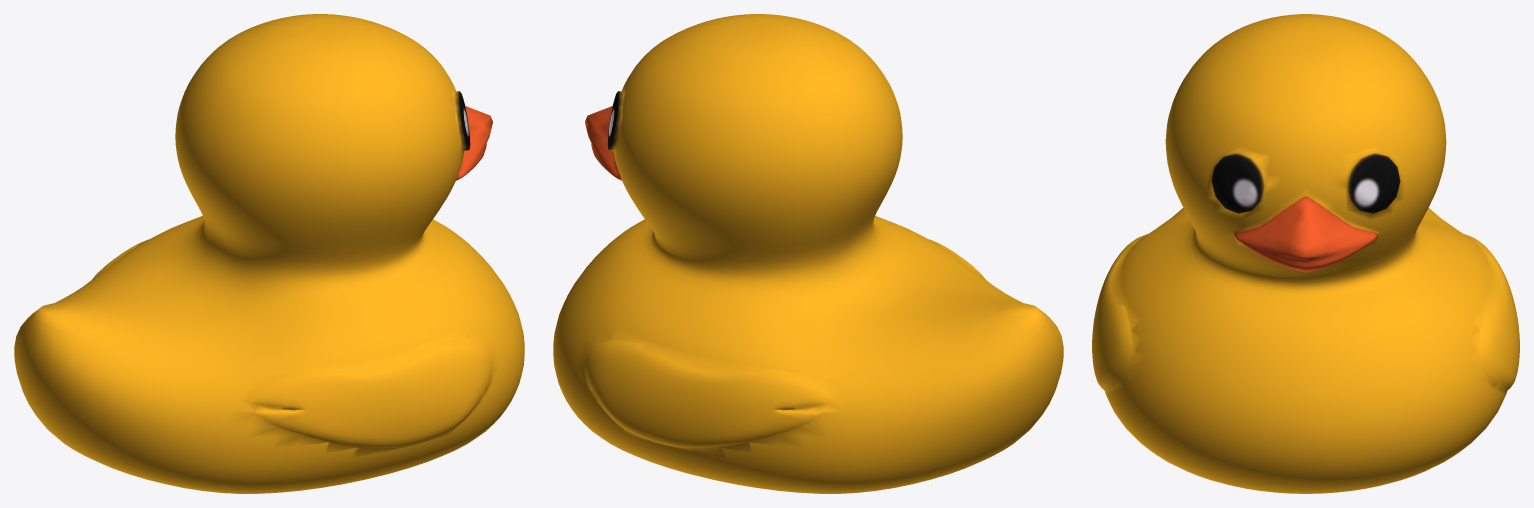
Rendered from And.glb.
The picture shows the model from 3 angles, left to right: view 1: azimuth 30°, elevation 25°; view 2: azimuth 150°, elevation 25°; view 3: azimuth 270°, elevation 25°; orthographic projection.
Parts seen in each view (by area): view 1: and v4.3; view 2: and v4.3; view 3: and v4.3.
Boxes of the visible parts, <box> form: and v4.3: <box>14,14,524,493</box>; and v4.3: <box>553,14,1063,493</box>; and v4.3: <box>1092,14,1519,493</box>.
Size of the model in its own units: 2.27 by 1.87 by 1.77.
1 material, 1 textured.
